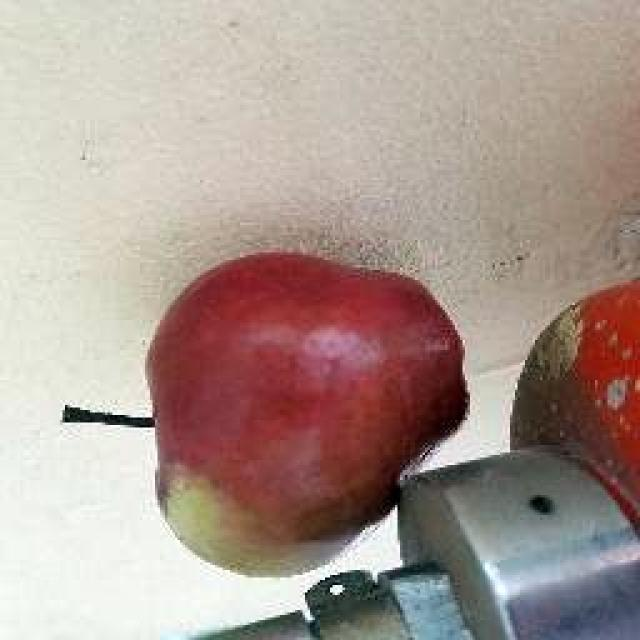Good_Apple: (142, 252, 470, 580)
